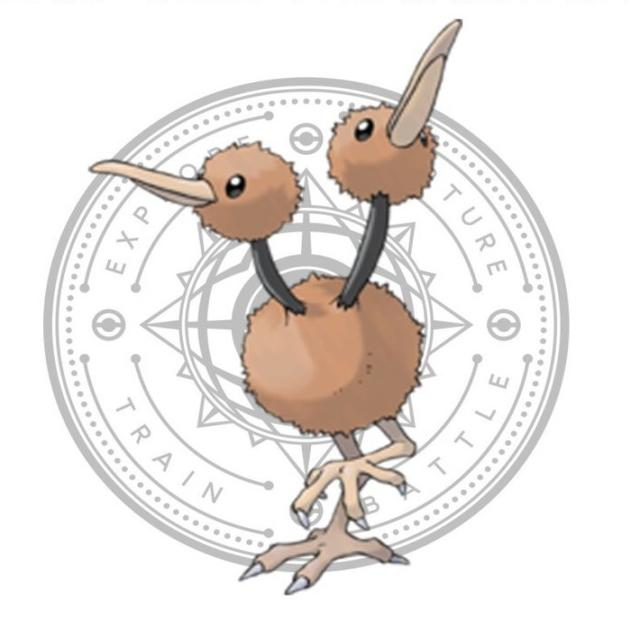Doduo: (168, 65, 451, 591)
